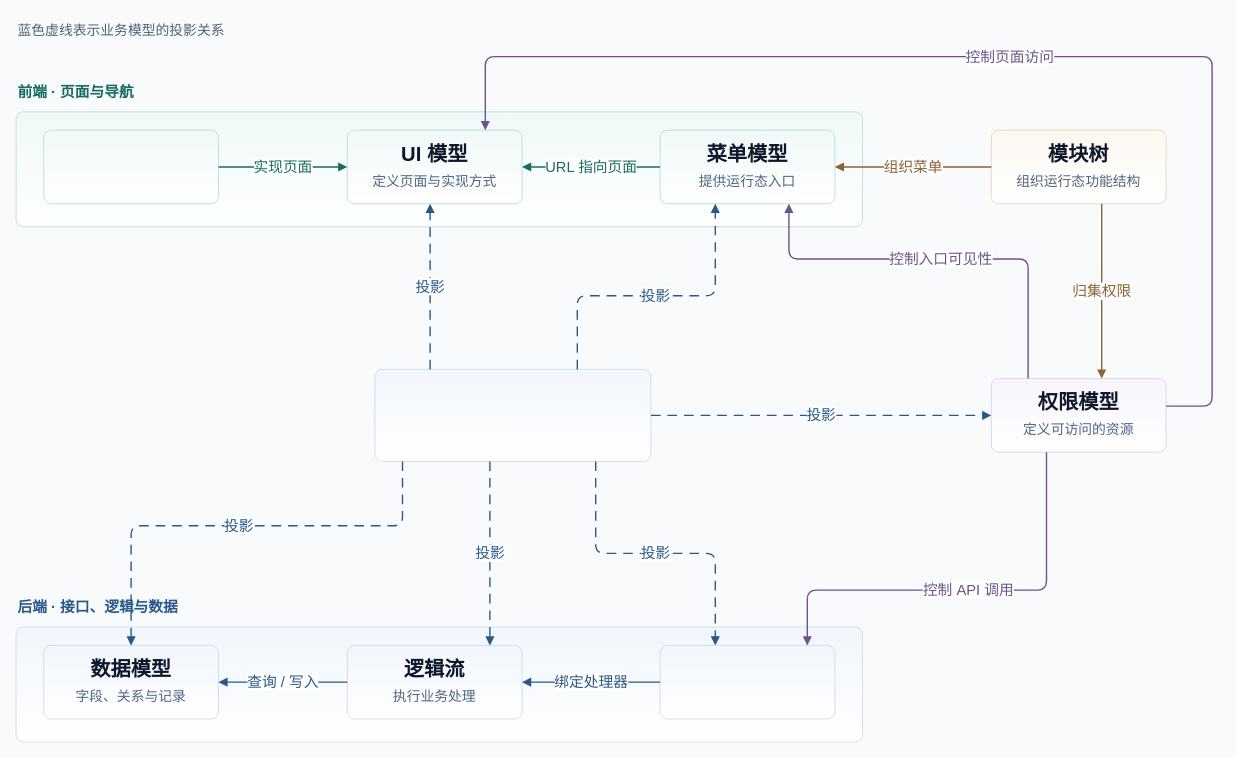
Image size: 1236x758. Some labels were removed from this diagram. Each missing label, with the centre of its shape:
UI Schema 描述页面内容与交互: point 130,166
WebAPI 模型 定义 HTTP 接口: point 747,681
业务模型 业务对象、字段、关系、视图与操作: point 512,414
